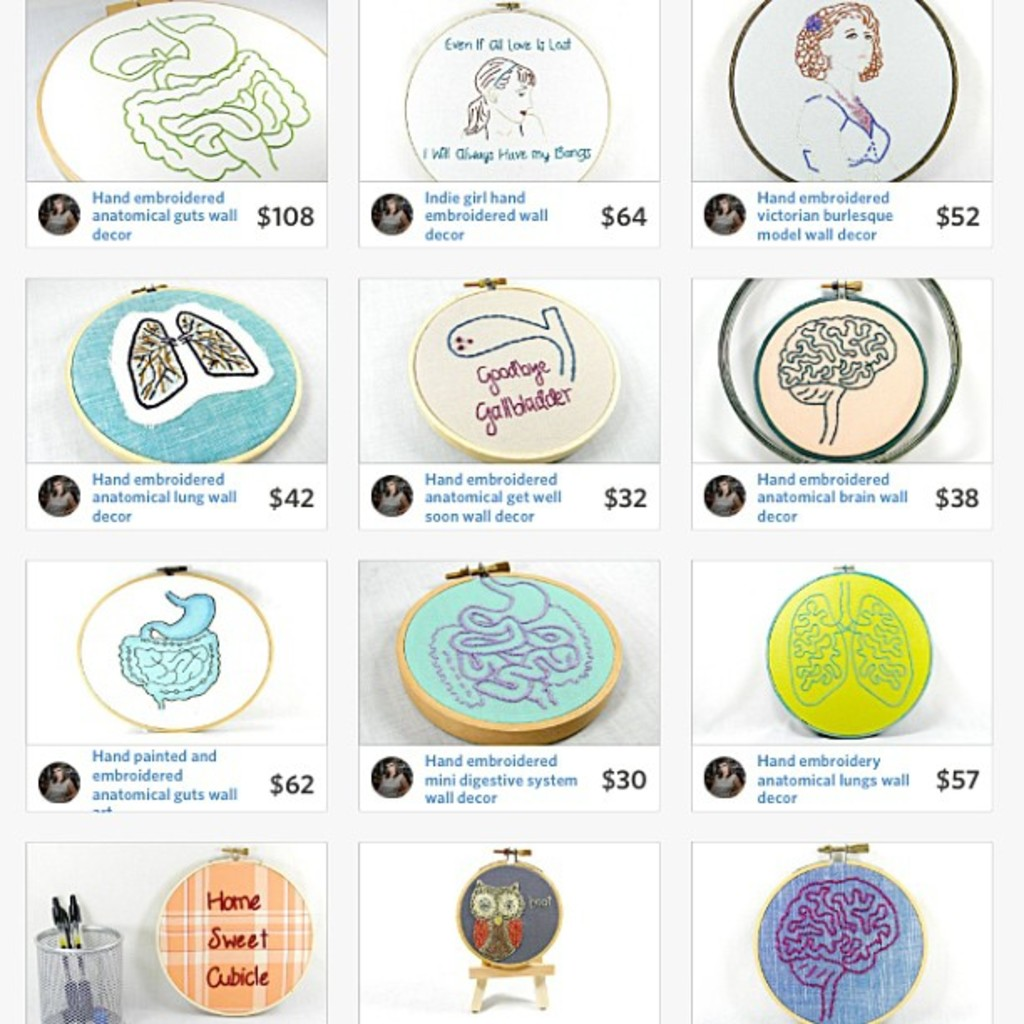Human-face: (812, 13, 873, 85), (490, 64, 539, 117)
